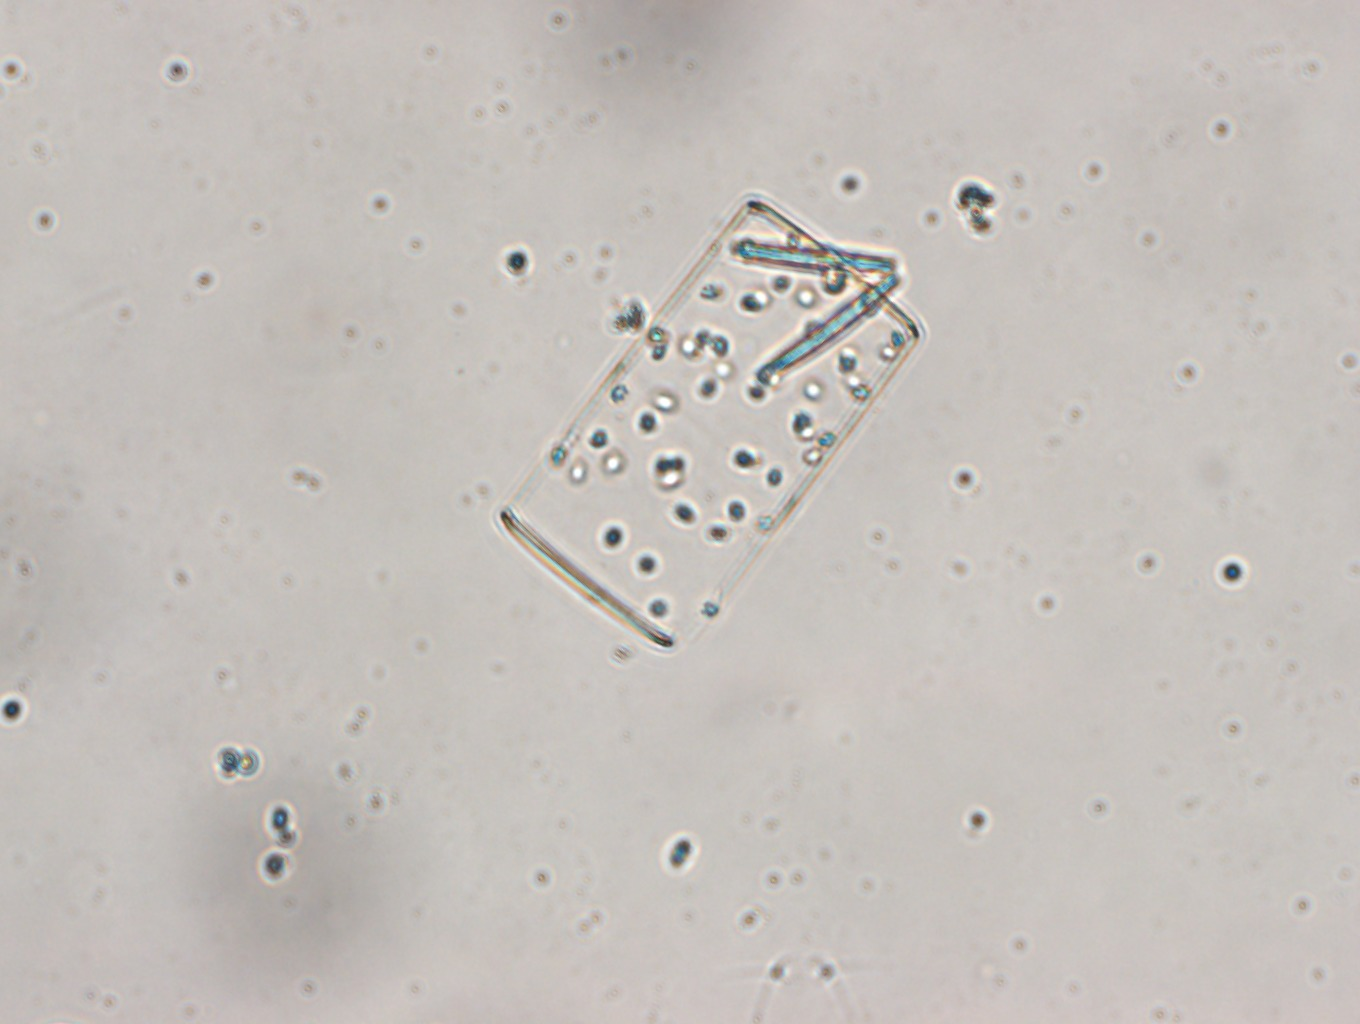guinardia flaccida: (496, 200, 920, 650)
